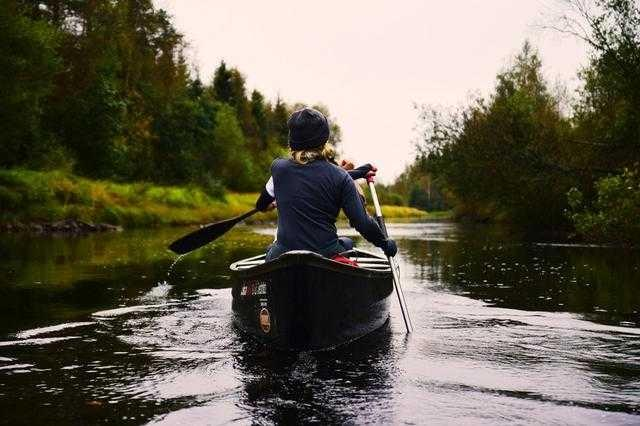kayak: (229, 248, 396, 357)
